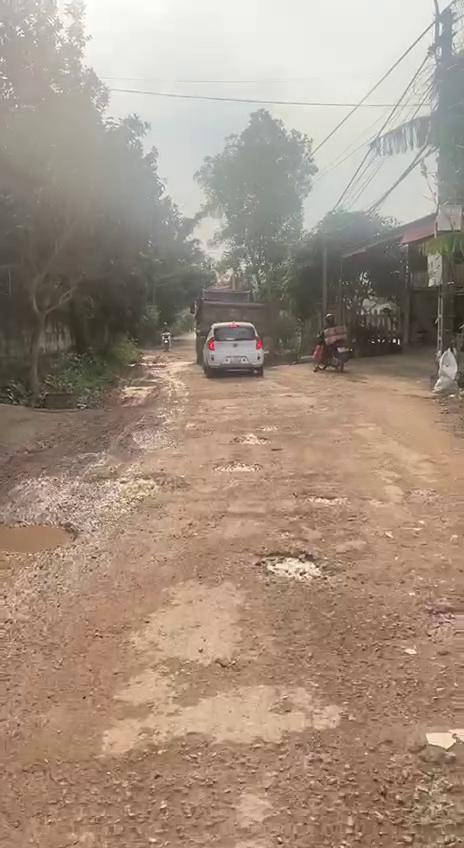pothole: (0, 516, 83, 560), (246, 544, 325, 588), (427, 604, 464, 644)
